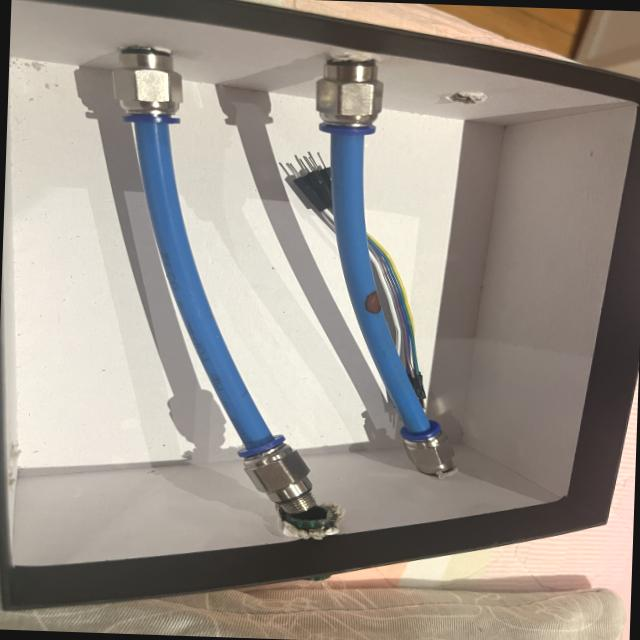hose_damage: (361, 286, 382, 317)
